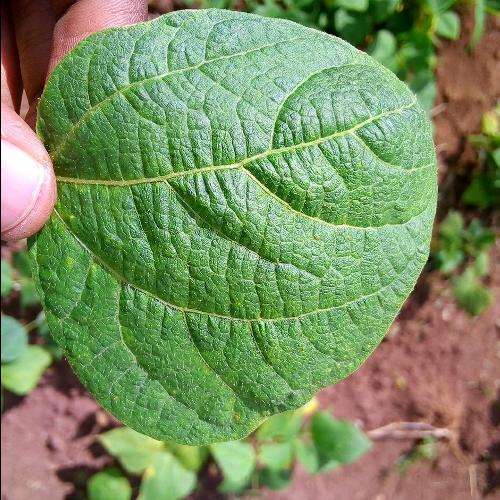mozaik: (62, 83, 390, 363)
